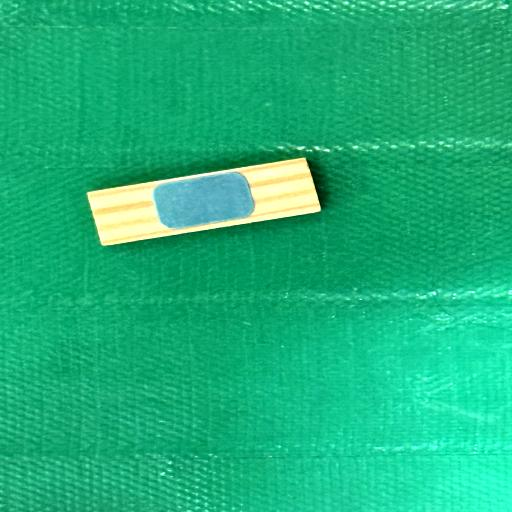objects: (87, 155, 321, 247)
